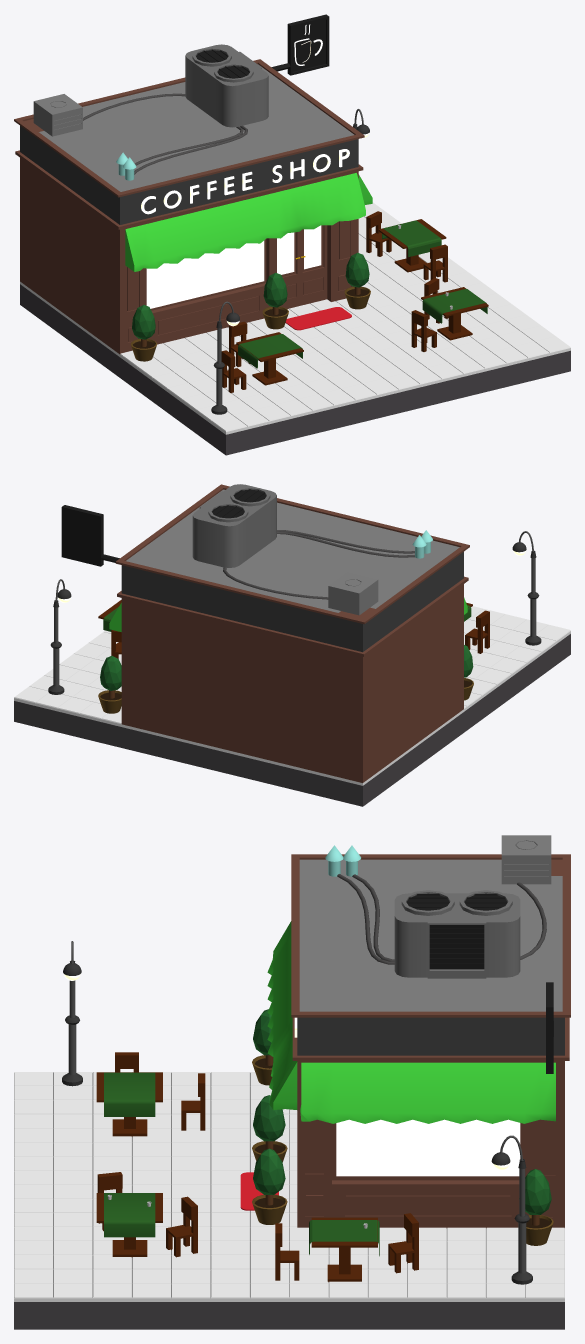
File: coffee_shop_isometric.glb
The picture shows the model from 3 angles, top to bottom: view 1: azimuth 30°, elevation 25°; view 2: azimuth 150°, elevation 25°; view 3: azimuth 270°, elevation 25°; orthographic projection. The views are drawn at different scales.
Visible parts, largest first — view 1: Edificio_0, Piso_3, Cortinas 1_9, Cube.001_62, Espejo_01_6, Columnas_5, Cube.002_69, Aire Acondicionado_12, Text.001_77, Puerta_02_19, Plane.001_57, Plane.002_58 (+16 smaller); view 2: Edificio_0, Piso_3, Cube.001_62, Columnas_5, Cube.002_69, Aire Acondicionado_12, Silla_01_15, Cylinder.012_48, Cylinder.014_53, Icosphere.002_37, BezierCurve.013_79, BezierCurve.012_78; view 3: Piso_3, Edificio_0, Cortinas 2_10, Espejo_02_7, Cube.001_62, Columnas_5, Cortinas 1_9, Aire Acondicionado_12, Plane.002_58, Plane_56, Plane.001_57, Mesa_2.001_23 (+14 smaller).
Boxes of the visible parts, bbox=[...] form: Edificio_0: bbox=[14, 59, 364, 354]; Piso_3: bbox=[20, 202, 570, 455]; Cortinas 1_9: bbox=[125, 173, 365, 271]; Cube.001_62: bbox=[185, 44, 268, 127]; Espejo_01_6: bbox=[146, 239, 266, 310]; Columnas_5: bbox=[107, 219, 358, 321]; Cube.002_69: bbox=[287, 14, 329, 75]; Aire Acondicionado_12: bbox=[33, 94, 82, 136]; Text.001_77: bbox=[141, 149, 349, 214]; Puerta_02_19: bbox=[300, 225, 327, 305]; Plane.001_57: bbox=[382, 220, 441, 256]; Plane.002_58: bbox=[238, 334, 302, 368]; Edificio_0: bbox=[115, 484, 469, 782]; Piso_3: bbox=[14, 606, 570, 806]; Cube.001_62: bbox=[192, 484, 276, 567]; Columnas_5: bbox=[121, 608, 463, 696]; Cube.002_69: bbox=[61, 505, 103, 566]; Aire Acondicionado_12: bbox=[328, 572, 378, 615]; Silla_01_15: bbox=[465, 610, 489, 653]; Cylinder.012_48: bbox=[525, 550, 541, 645]; Cylinder.014_53: bbox=[48, 600, 64, 694]; Icosphere.002_37: bbox=[100, 656, 121, 690]; BezierCurve.013_79: bbox=[277, 531, 414, 557]; BezierCurve.012_78: bbox=[277, 530, 414, 553]; Piso_3: bbox=[14, 1072, 564, 1329]; Edificio_0: bbox=[291, 854, 570, 1228]; Cortinas 2_10: bbox=[300, 1062, 555, 1123]; Espejo_02_7: bbox=[332, 1119, 524, 1180]; Cube.001_62: bbox=[394, 890, 520, 978]; Columnas_5: bbox=[297, 1095, 564, 1184]; Cortinas 1_9: bbox=[267, 921, 297, 1110]; Aire Acondicionado_12: bbox=[501, 835, 551, 884]; Plane.002_58: bbox=[104, 1072, 155, 1116]; Plane_56: bbox=[104, 1193, 155, 1237]; Plane.001_57: bbox=[309, 1220, 379, 1256]; Mesa_2.001_23: bbox=[311, 1217, 377, 1282].
Size of what is drawn, in the model's own units: 4.61 by 2.91 by 4.76.
